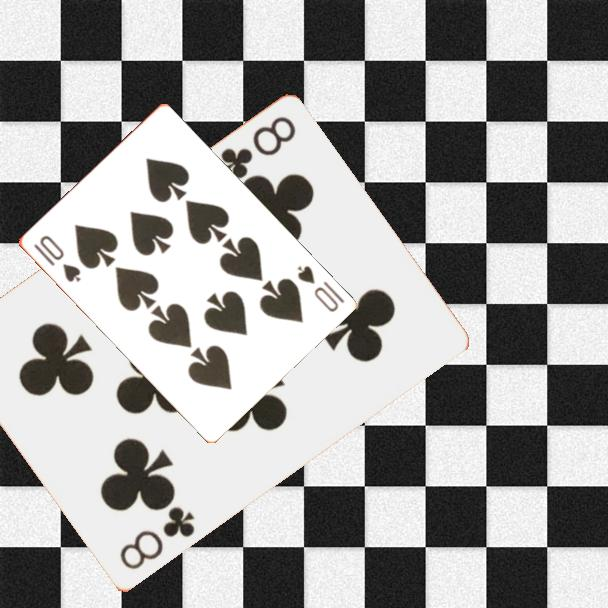c08: (116, 503, 198, 573), (217, 113, 299, 183)
s10: (30, 231, 84, 285), (293, 262, 347, 315)
